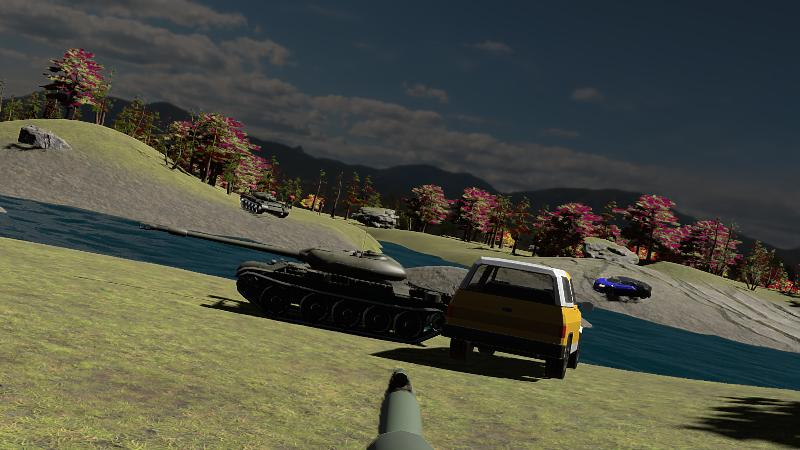Tank: (137, 223, 457, 342), (240, 188, 290, 219)
car: (445, 256, 582, 379), (593, 275, 652, 302)
